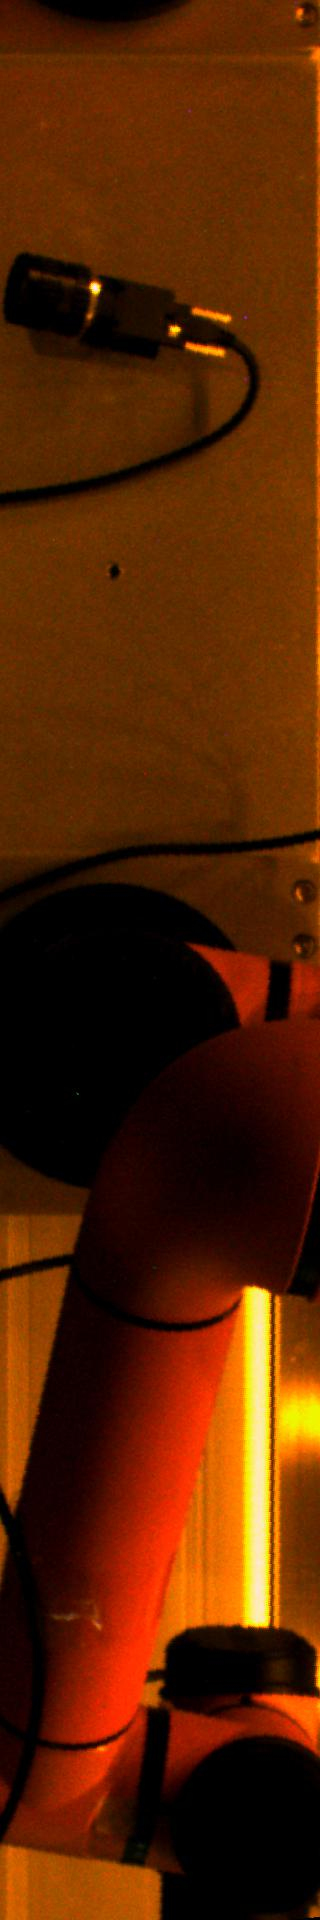keyPoint_2: (98, 558, 128, 588)
